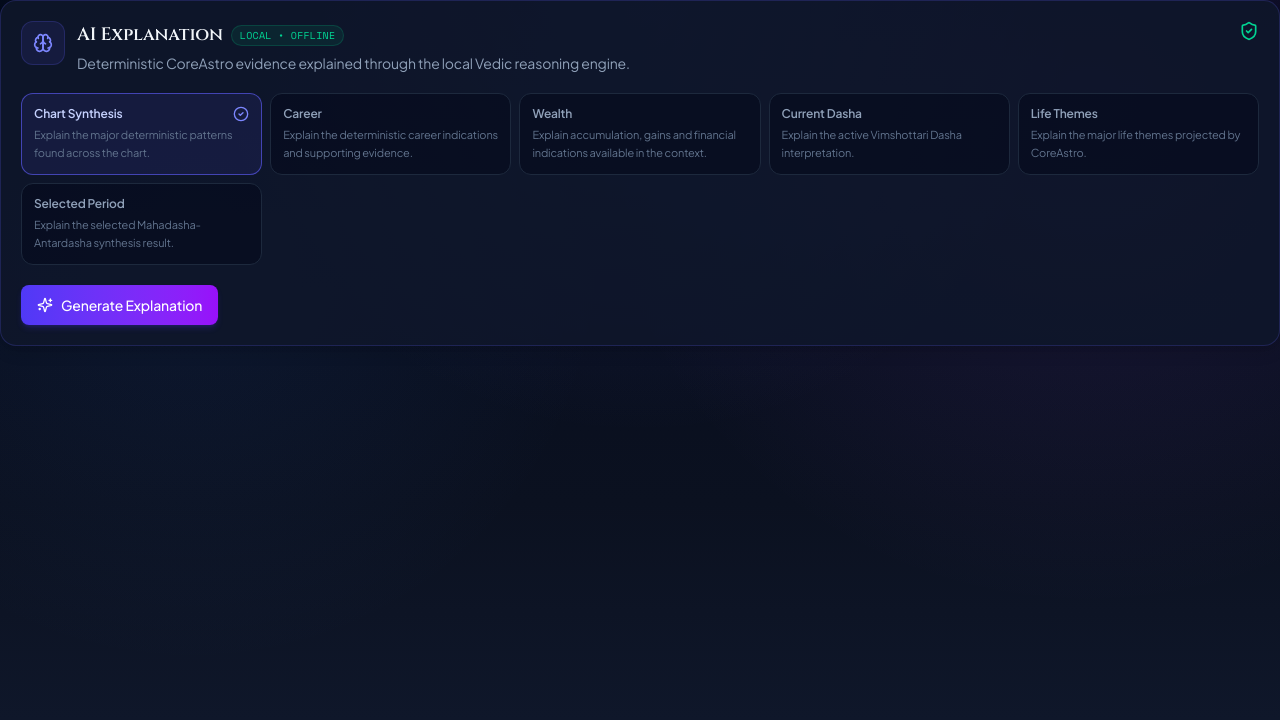
AiExplanationPanel › generates and renders successful explanation
The width and height of the screenshot is (1280, 720).
Click the button "Generate Explanation".
click(120, 304)  # box [21,284,218,324]
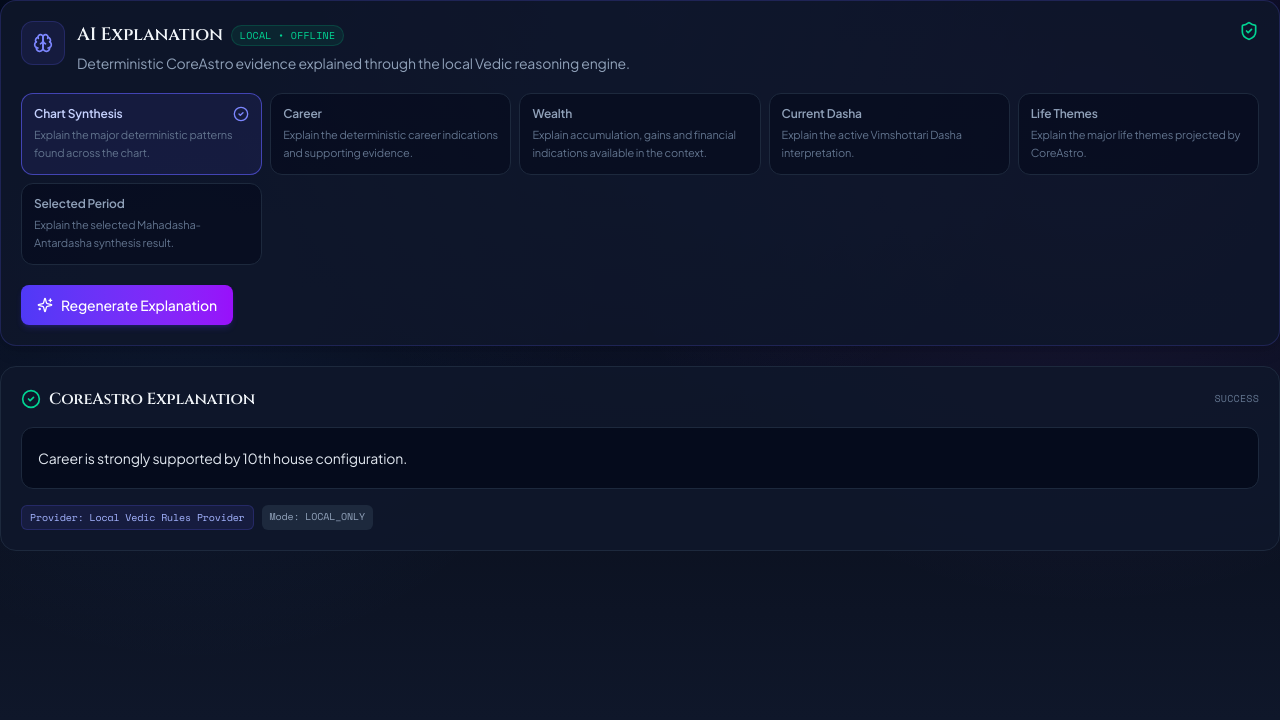
Expected: the text "Career is strongly supported by 10th house configuration." is shown, [38,448,407,466]
Expected: the text "Provider: Local Vedic Rules Provider" is shown, [21,504,254,530]
Expected: the text "Mode: LOCAL_ONLY" is shown, [262,504,373,530]
